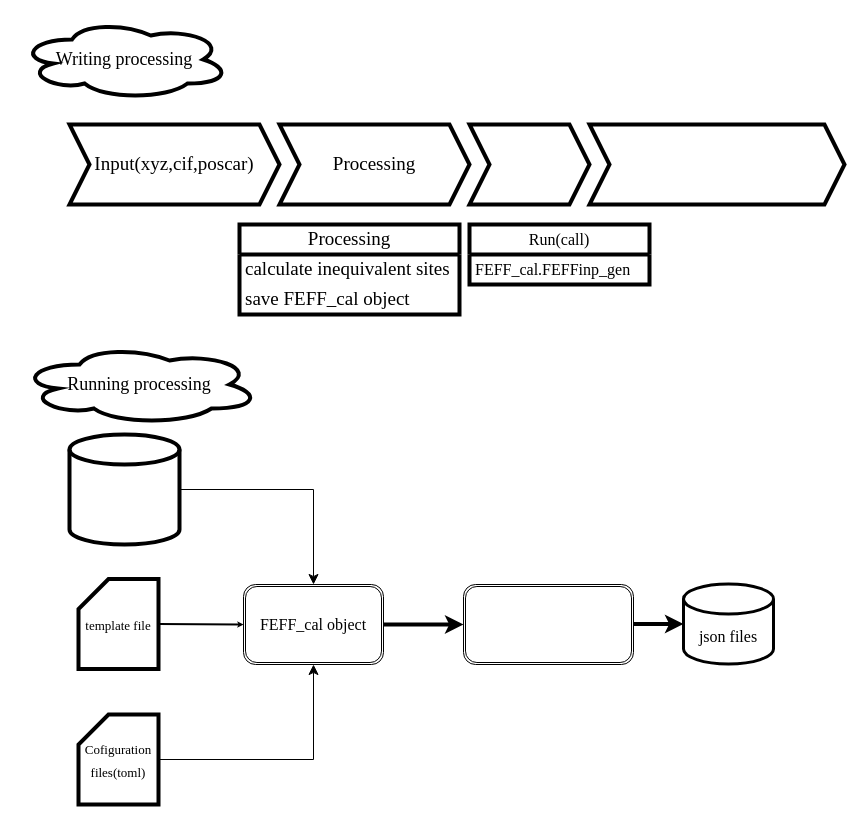
Image size: 863x823. Some labels were removed from this diagram. The shapes that lost their labels are listed below. From the top down, each one's centre as x and y in pixels, then its label:
At [529,164]: "Run".
At [716,164]: "output(FEFF input file)".
At [124,489]: "FEFF_input files".
At [548,624]: "FEFF_cal.particle_run".
